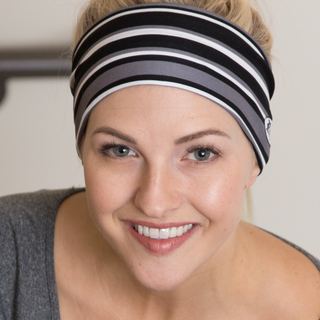eye: (177, 142, 225, 166), (96, 139, 142, 164)
